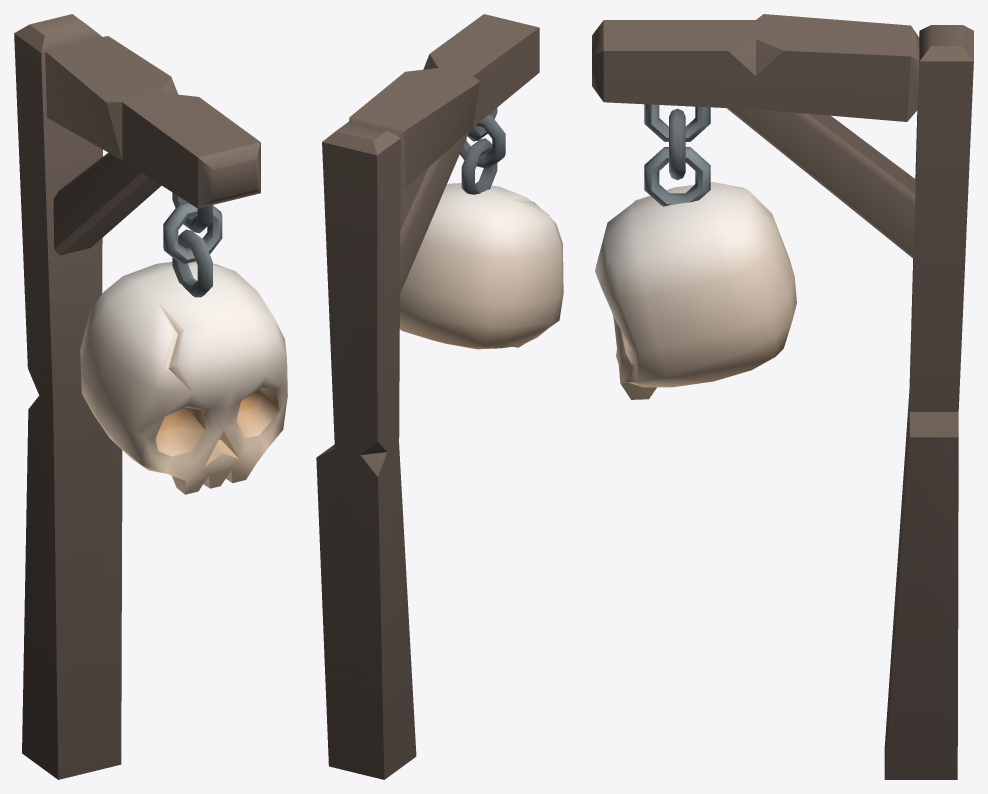
The model's file is Post Skull.glb.
The picture shows the model from 3 angles, left to right: view 1: azimuth 30°, elevation 25°; view 2: azimuth 150°, elevation 25°; view 3: azimuth 270°, elevation 25°; orthographic projection. The views are drawn at different scales.
Visible parts, largest first — view 1: post_skull, post_skull_skull; view 2: post_skull, post_skull_skull; view 3: post_skull, post_skull_skull.
Part boxes in pixels (x1,y1,x2,y2): post_skull: [14, 14, 260, 779]; post_skull_skull: [80, 192, 287, 494]; post_skull: [316, 14, 539, 779]; post_skull_skull: [399, 108, 563, 349]; post_skull: [592, 14, 973, 779]; post_skull_skull: [595, 104, 796, 399].
Size of the model in its own units: 0.8091 by 3.3 by 1.57.
1 material, 1 textured.
